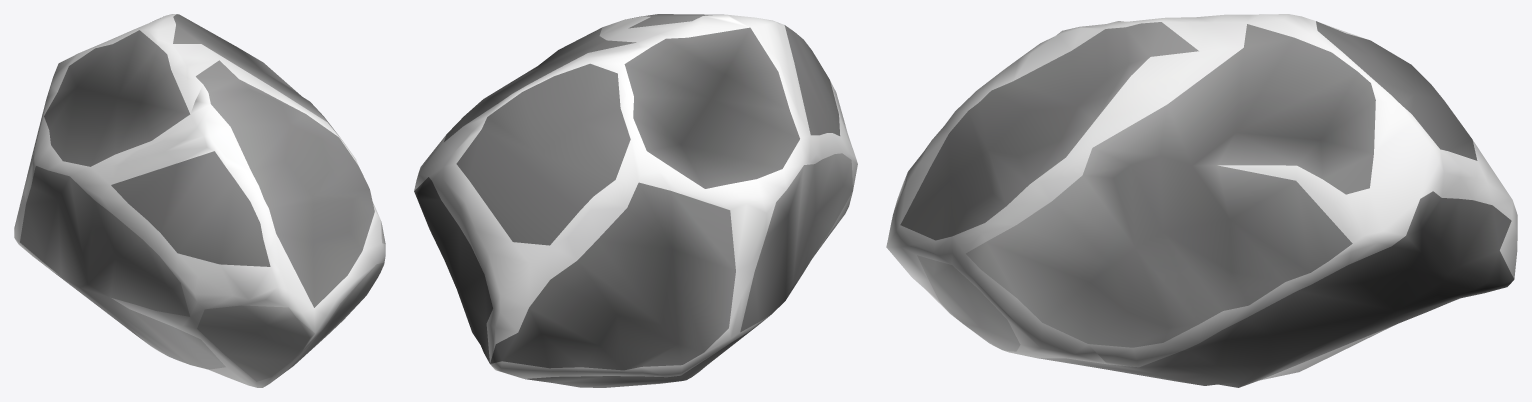
Rendered from SM_Rock_04.fbx.
3 views of the same model, side by side, from view 1: azimuth 30°, elevation 25°; view 2: azimuth 150°, elevation 25°; view 3: azimuth 270°, elevation 25° (orthographic). The views are drawn at different scales.
Parts seen in each view (by area): view 1: SM_Rock_04; view 2: SM_Rock_04; view 3: SM_Rock_04.
Part boxes in pixels (x1,y1,x2,y2): SM_Rock_04: [14, 14, 385, 387]; SM_Rock_04: [414, 14, 857, 387]; SM_Rock_04: [886, 14, 1517, 387].
Size of the model in its own units: 27.65 by 27.58 by 44.44.
